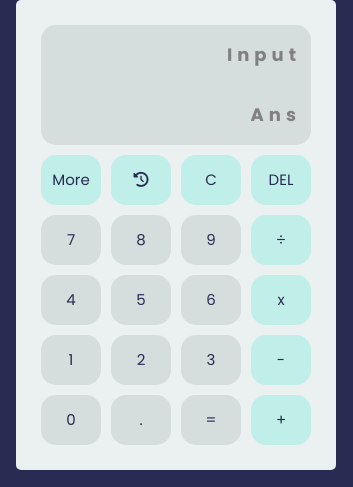
Scenario: Calculator › should add two numbers correctly
The image size is (353, 487).
What coordinates should you click on to do the following:
click the button with test id "1"
I would click on:
 (71, 360)
Its box is [41, 335, 101, 385].
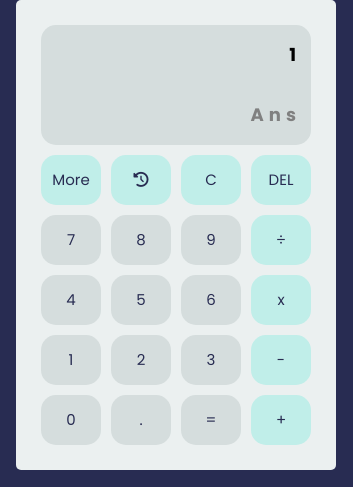
What coordinates should you click on to do the following:
click the button with test id "+"
I would click on:
 (281, 420)
Its box is [251, 395, 311, 445].
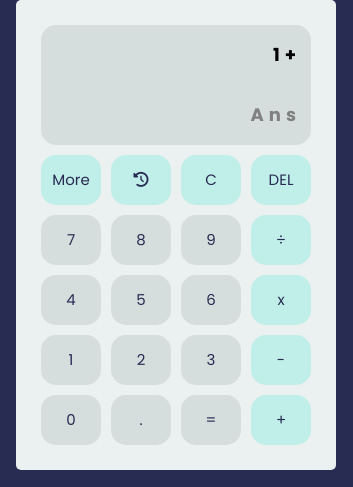
What coordinates should you click on to do the following:
click the button with test id "2"
I would click on:
 (141, 360)
Its box is [111, 335, 171, 385].
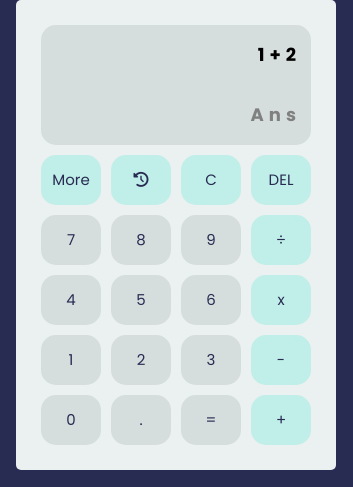
What coordinates should you click on to do the following:
click the button with test id "="
I would click on:
 (211, 420)
Its box is [181, 395, 241, 445].
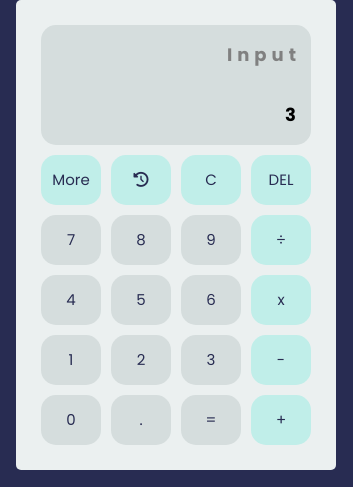
Result: the heading with test id "result" reads "3" at [285, 102, 301, 127]
